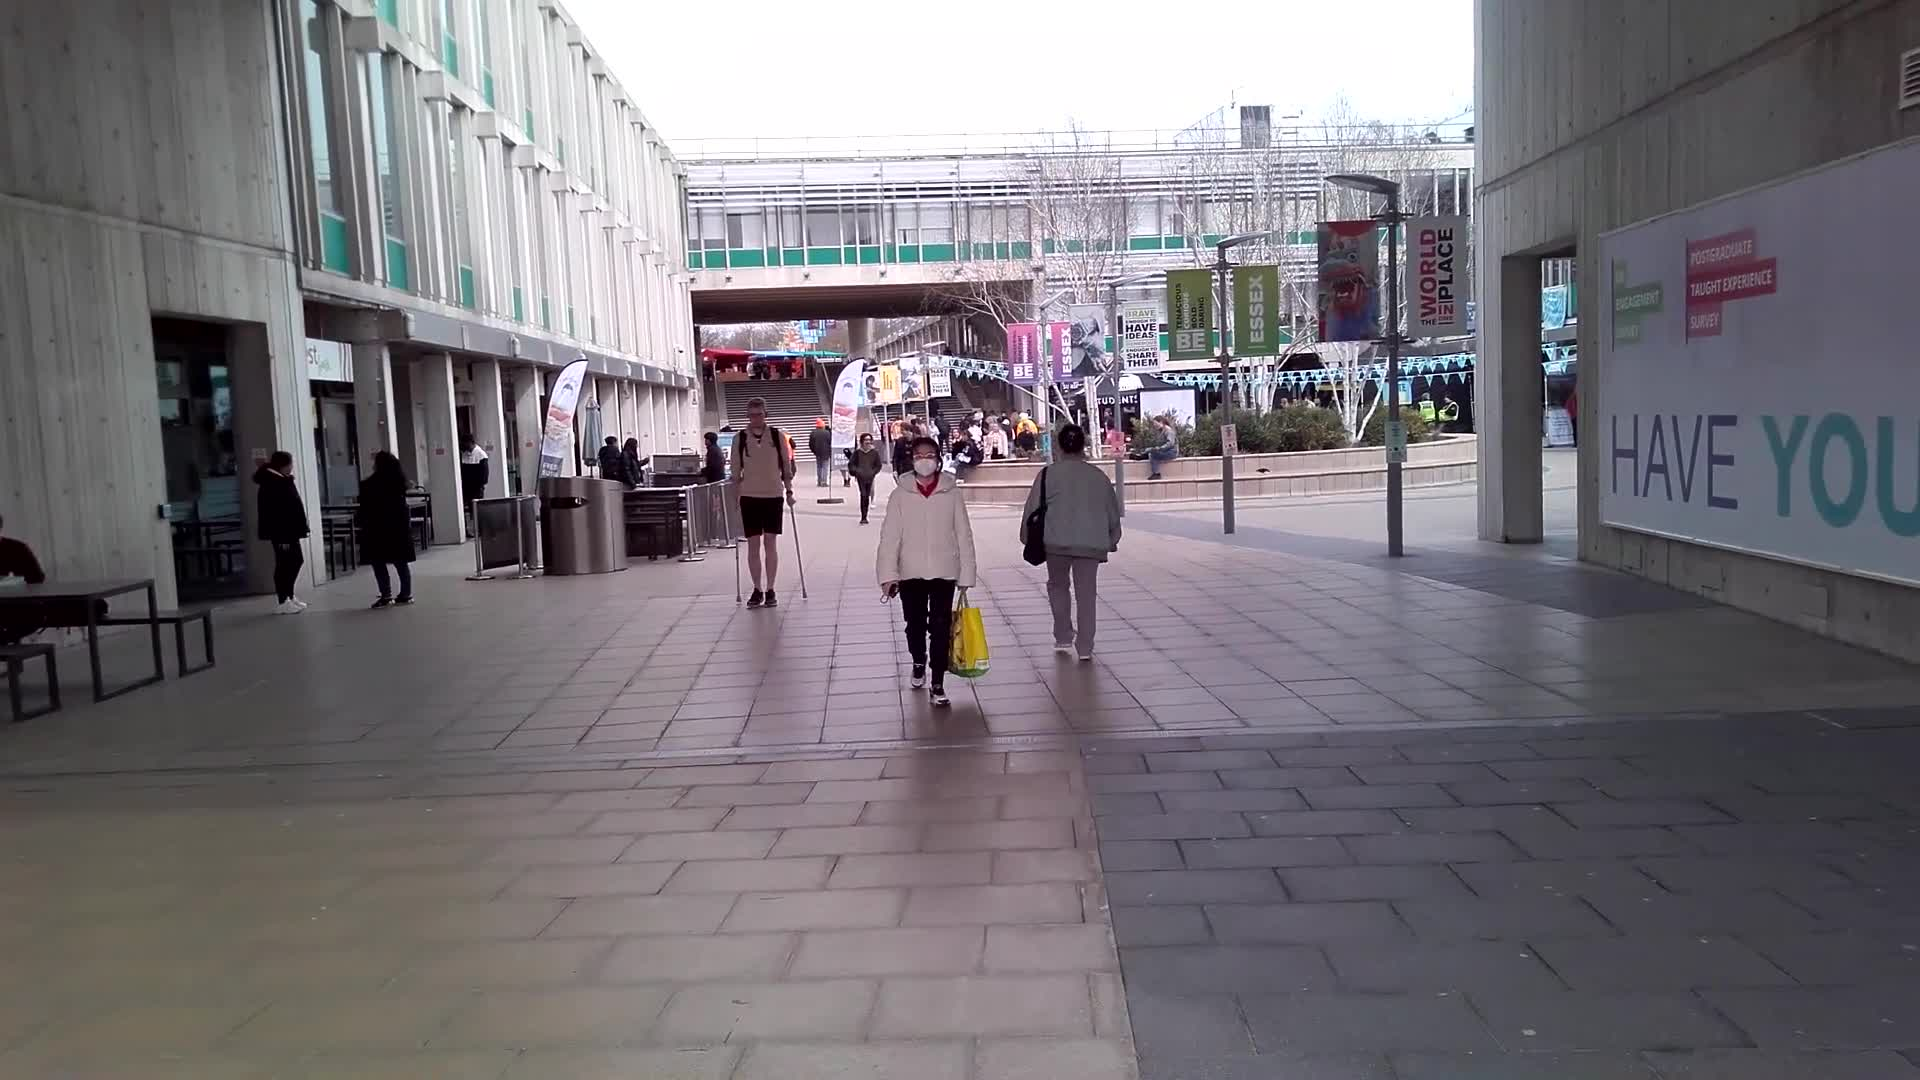Backpack: (936, 591, 1000, 687), (1021, 502, 1052, 573)
Bin: (540, 475, 628, 578)
Person: (894, 438, 968, 713), (1038, 425, 1110, 665), (733, 397, 793, 614), (354, 451, 426, 610), (257, 446, 316, 618), (1130, 415, 1184, 482), (848, 431, 884, 526), (460, 430, 489, 514)
